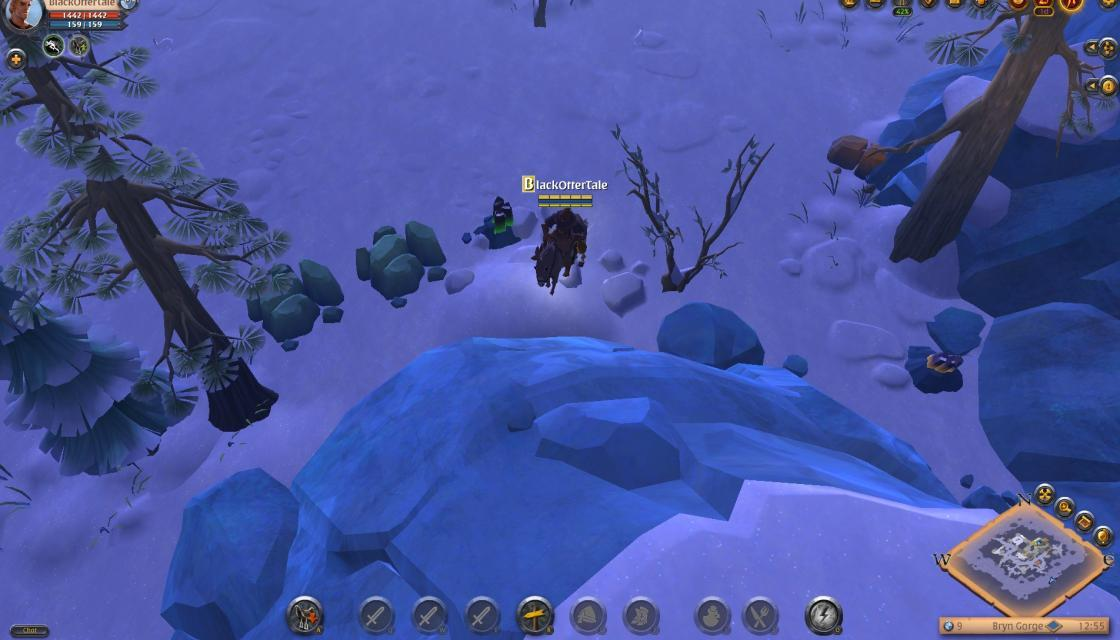copperore: (902, 342, 968, 391)
limestone: (823, 134, 899, 184)
sandstone: (238, 252, 344, 344), (354, 219, 448, 306)
tinore: (470, 193, 520, 250)
